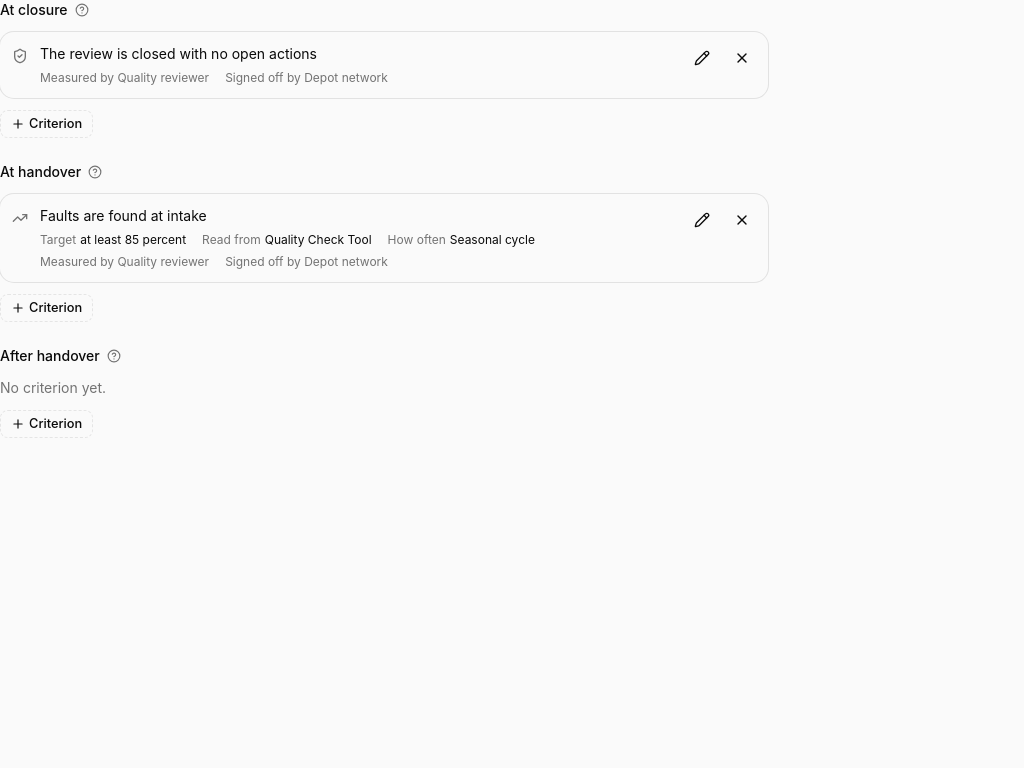
it: the add dialog asks the five questions › offers the project's own roles for both role questions
Expected: the text "Faults are found at intake" is shown, [40, 207, 207, 224]
Click the button with aria-label "Add a criterion": (47, 124) [0, 110, 93, 138]
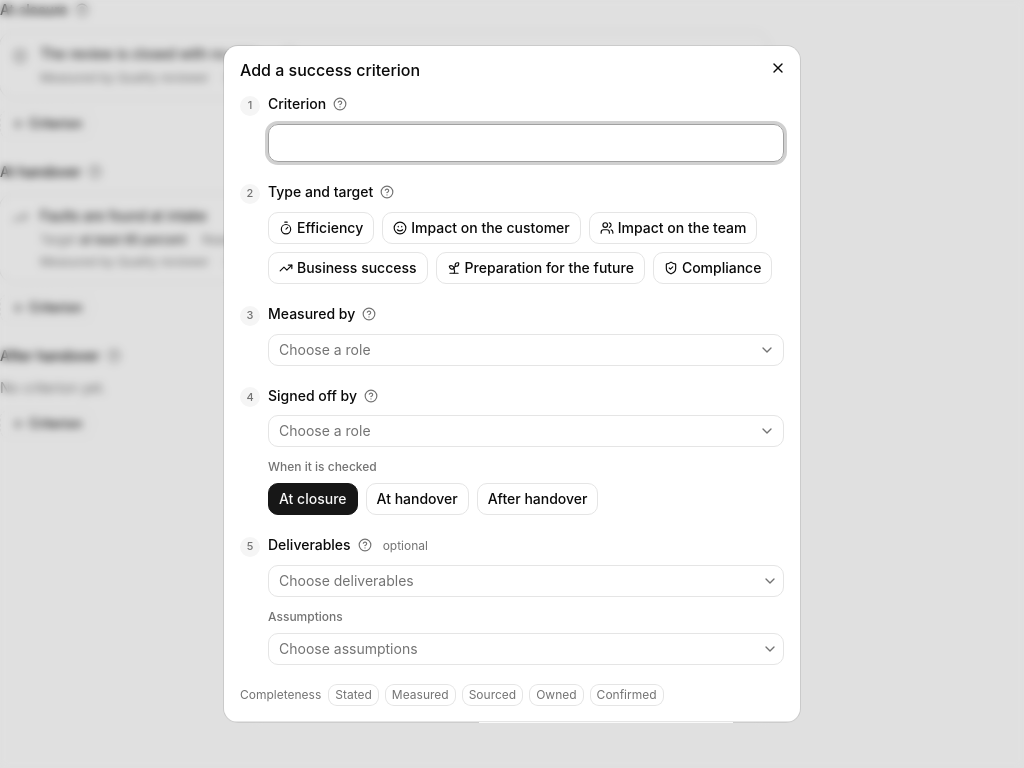
Expected: the heading "Add a success criterion" is shown, [240, 60, 420, 80]
Click the dropdown named "Signed off by": (325, 431) [268, 416, 784, 448]
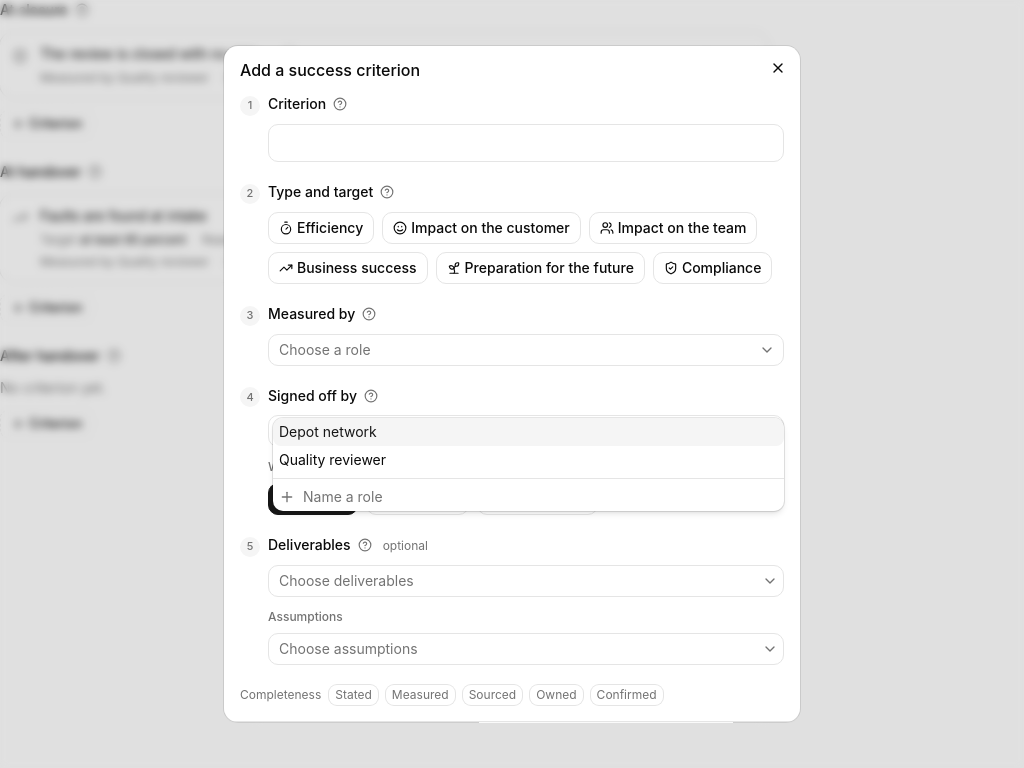
Expected: the options read "Depot network", "Quality reviewer", "Name a role", in this order, [273, 418, 784, 446]; [279, 450, 386, 468]; [279, 488, 383, 504]
